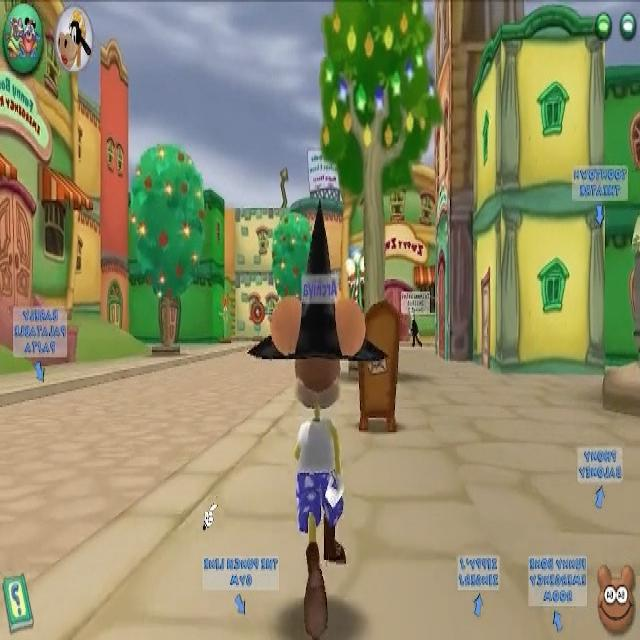telemarketer: (401, 291, 431, 350)
